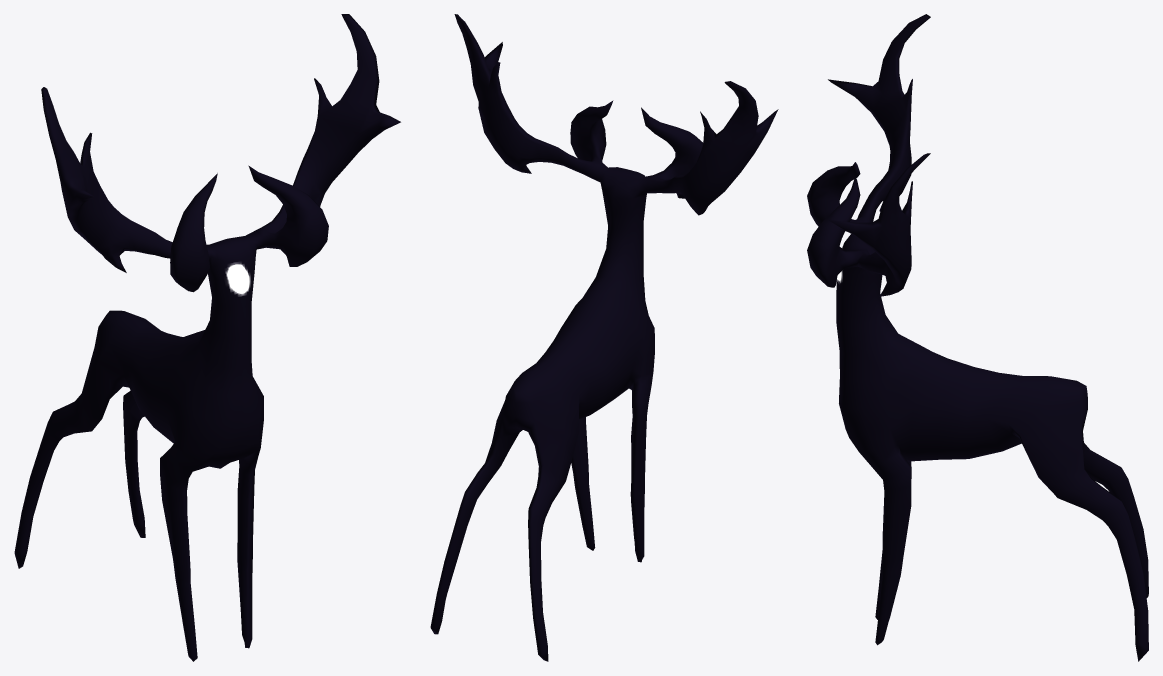
File: Game2-DEER-still.fbx
The picture shows the model from 3 angles, left to right: view 1: azimuth 30°, elevation 25°; view 2: azimuth 150°, elevation 25°; view 3: azimuth 270°, elevation 25°; orthographic projection. The views are drawn at different scales.
Parts seen in each view (by area): view 1: DEER_geo; view 2: DEER_geo; view 3: DEER_geo.
Boxes of the visible parts, box(x1,y1,x2,y2) form: DEER_geo: box(14, 14, 400, 661); DEER_geo: box(430, 14, 778, 661); DEER_geo: box(807, 14, 1148, 661).
Bounding box in the file's own units: 166 × 284 × 160.
